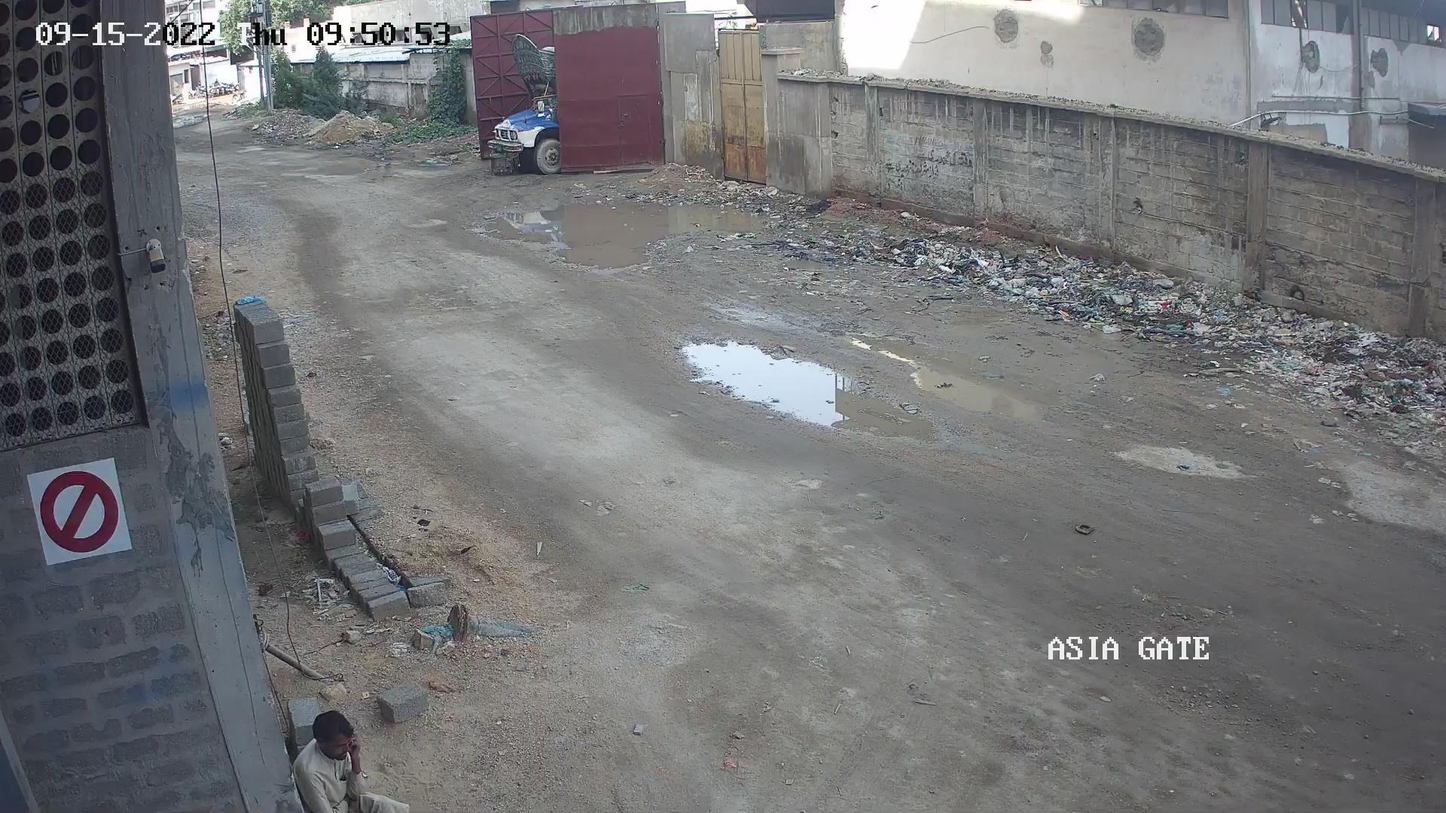person: (293, 714, 415, 813)
